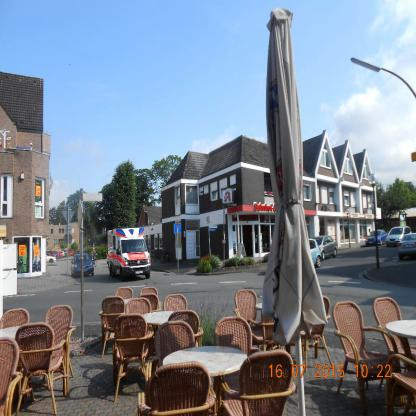Ambulance: (108, 225, 151, 281)
